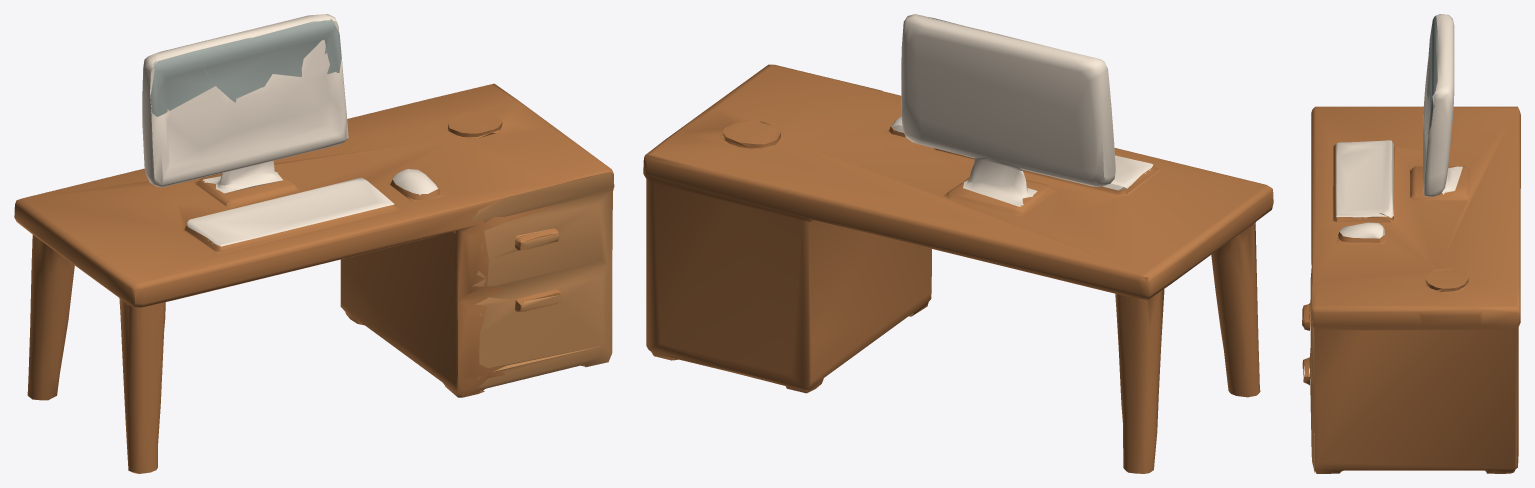
The model's file is desk.glb.
3 renders of one model, left to right at view 1: azimuth 30°, elevation 25°; view 2: azimuth 150°, elevation 25°; view 3: azimuth 270°, elevation 25°, orthographic. The views are drawn at different scales.
Parts seen in each view (by area): view 1: desk_wood, desk_monitor, desk_door, desk_screen; view 2: desk_wood, desk_monitor; view 3: desk_wood, desk_monitor, desk_door, desk_screen.
Boxes of the visible parts, box(x1,y1,x2,y2) form: desk_wood: box(14, 83, 613, 473); desk_monitor: box(142, 14, 437, 246); desk_door: box(472, 172, 614, 393); desk_screen: box(150, 19, 341, 116); desk_wood: box(643, 64, 1273, 473); desk_monitor: box(891, 14, 1153, 206); desk_wood: box(1303, 106, 1520, 473); desk_monitor: box(1336, 14, 1462, 238); desk_door: box(1302, 258, 1314, 472); desk_screen: box(1427, 15, 1437, 134).
Size of the model in its own units: 1.9 by 1.3 by 0.8597.
